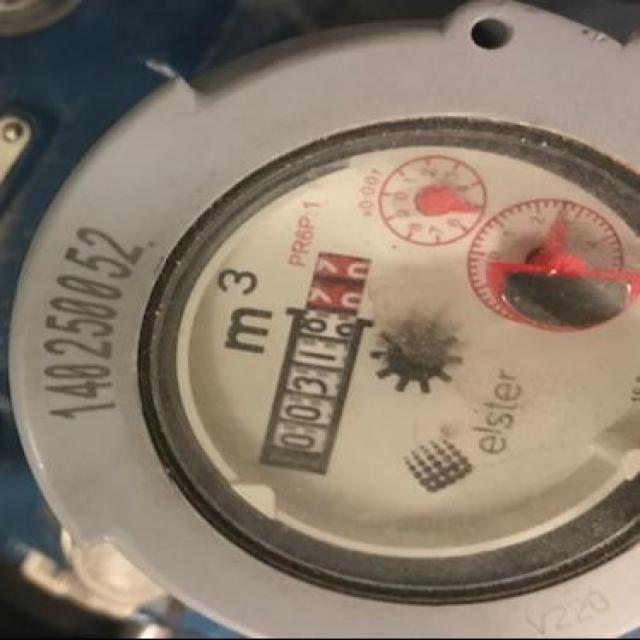gaz_meter: (18, 16, 640, 626)
indication: (257, 249, 379, 479)
